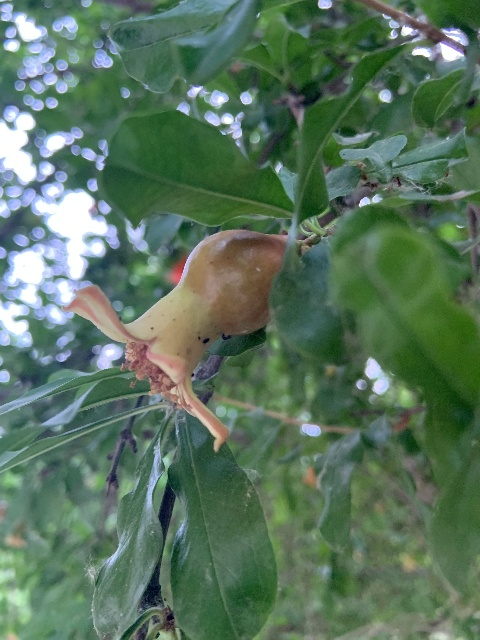early-fruit: (63, 229, 284, 452)
